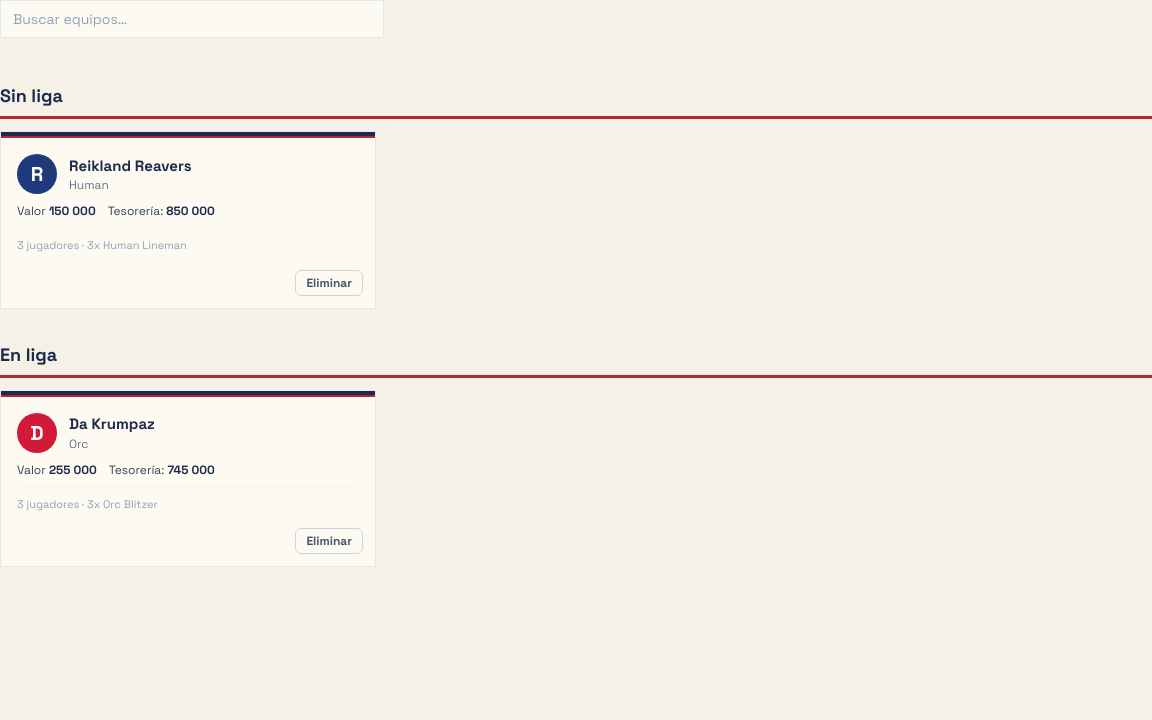
TeamsPage — delete flow › removes a team from both sections after confirming delete
expect the heading "Reikland Reavers" is shown: met, box [69,156,192,175]
Click the button with aria-label "Eliminar Reikland Reavers".
click(329, 282)  # box [295,270,363,296]
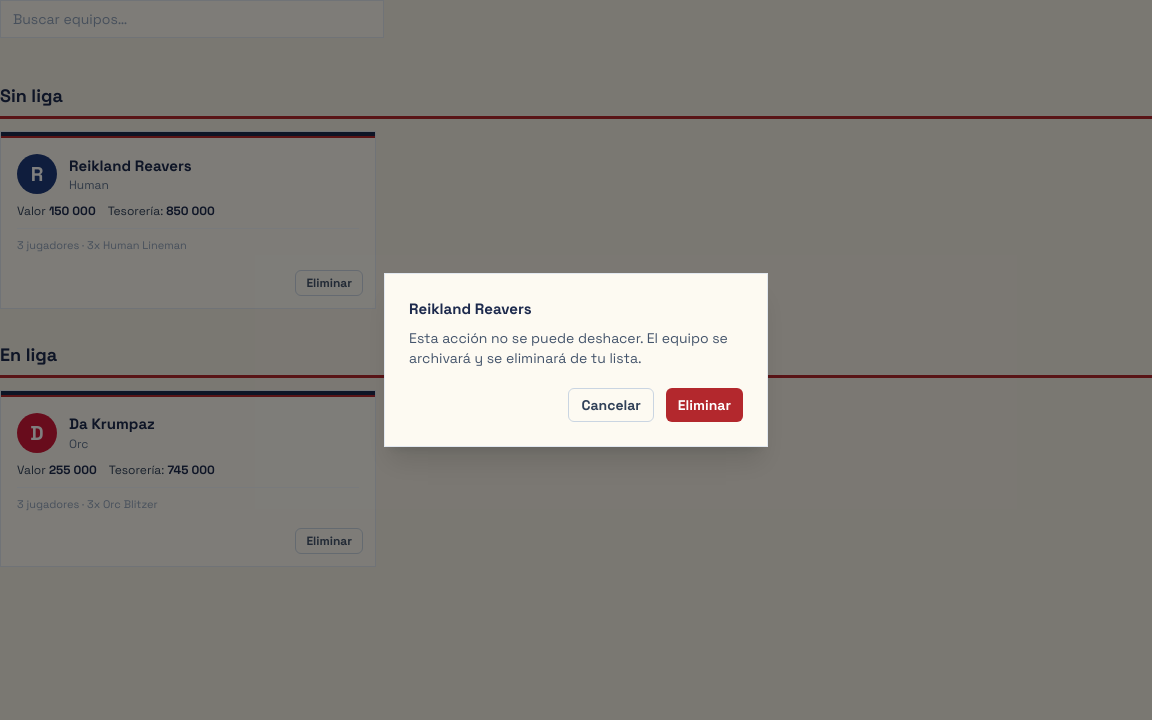
Click the button "Eliminar".
click(704, 405)  # box [666,388,743,422]
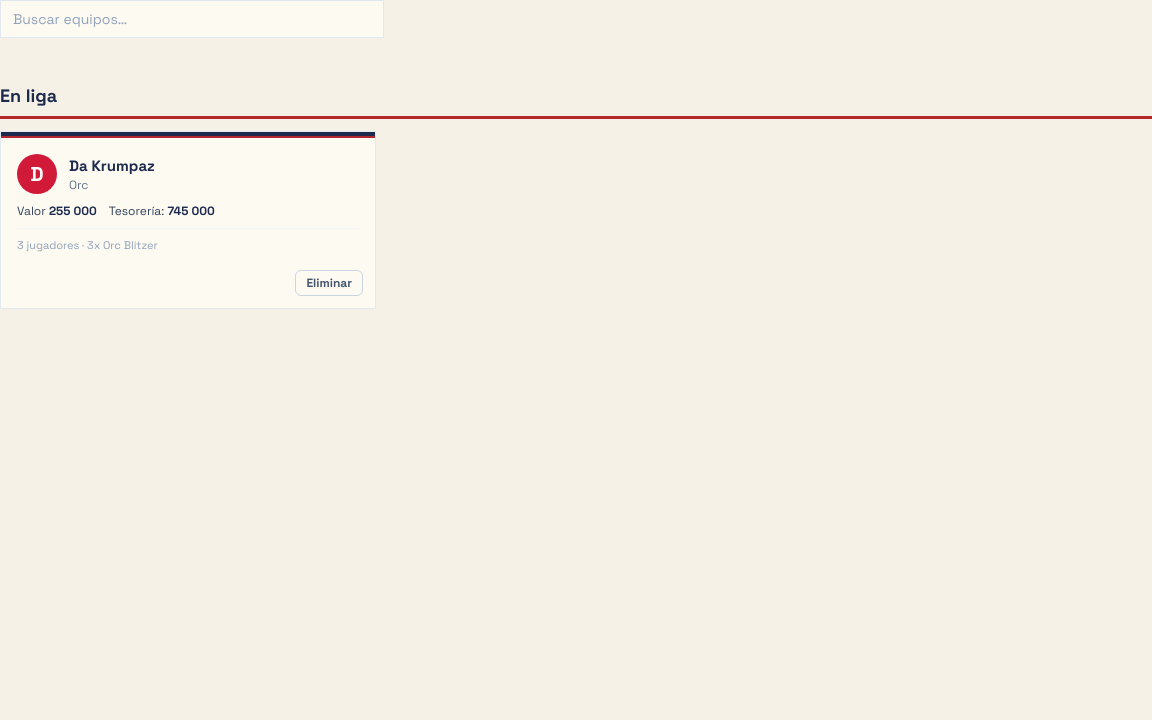
expect the heading "Da Krumpaz" is shown: met, box [69,156,155,175]
expect the link "Reikland Reavers" is gone: met
expect the dialog is gone: met
